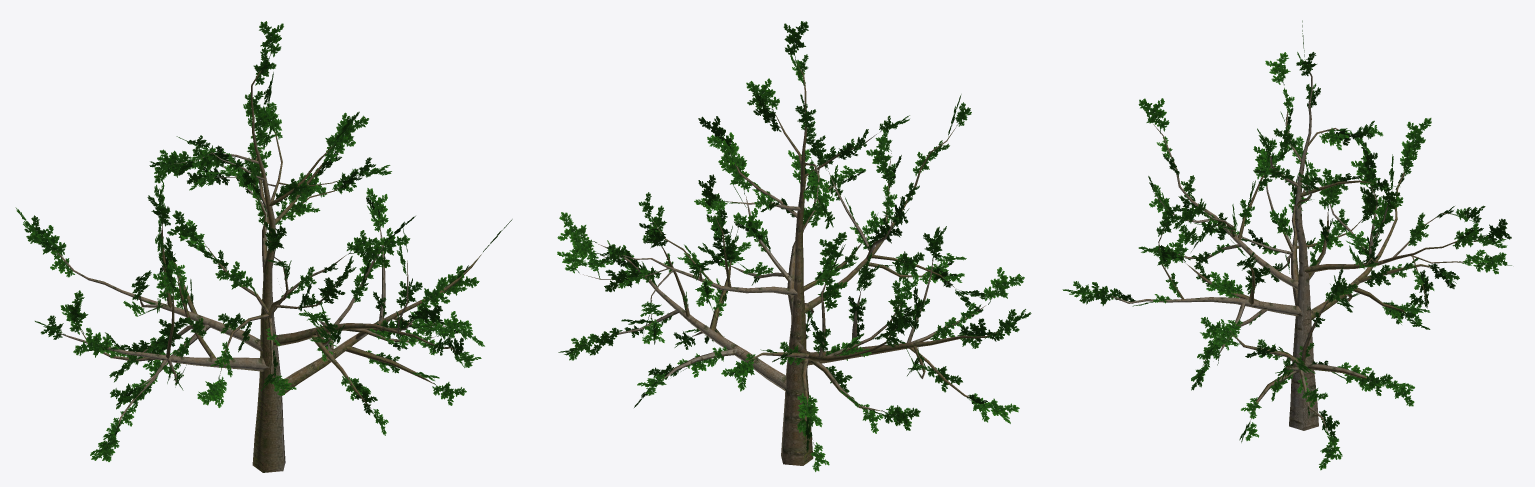
The model's file is neem.glb.
3 renders of one model, left to right at view 1: azimuth 30°, elevation 25°; view 2: azimuth 150°, elevation 25°; view 3: azimuth 270°, elevation 25°, orthographic. The views are drawn at different scales.
Size of the model in its own units: 5.31 by 4.68 by 4.86.
Materials: 2 (2 with a texture image).
